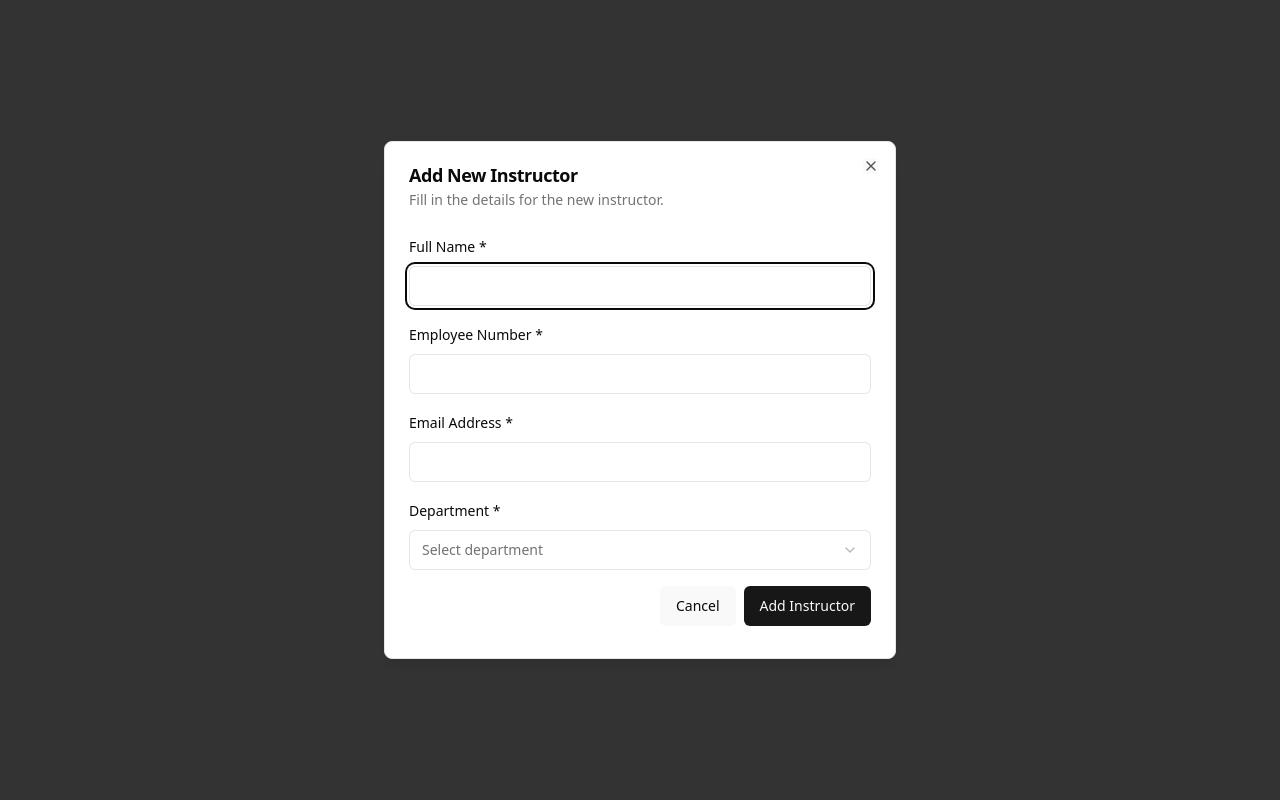
Test case: AddInstructorModal › shows an error for a duplicate employee number
The width and height of the screenshot is (1280, 800).
Type "John Doe" into the field labelled "Full Name *" at coordinates (640, 286), box [409,266,871,306]
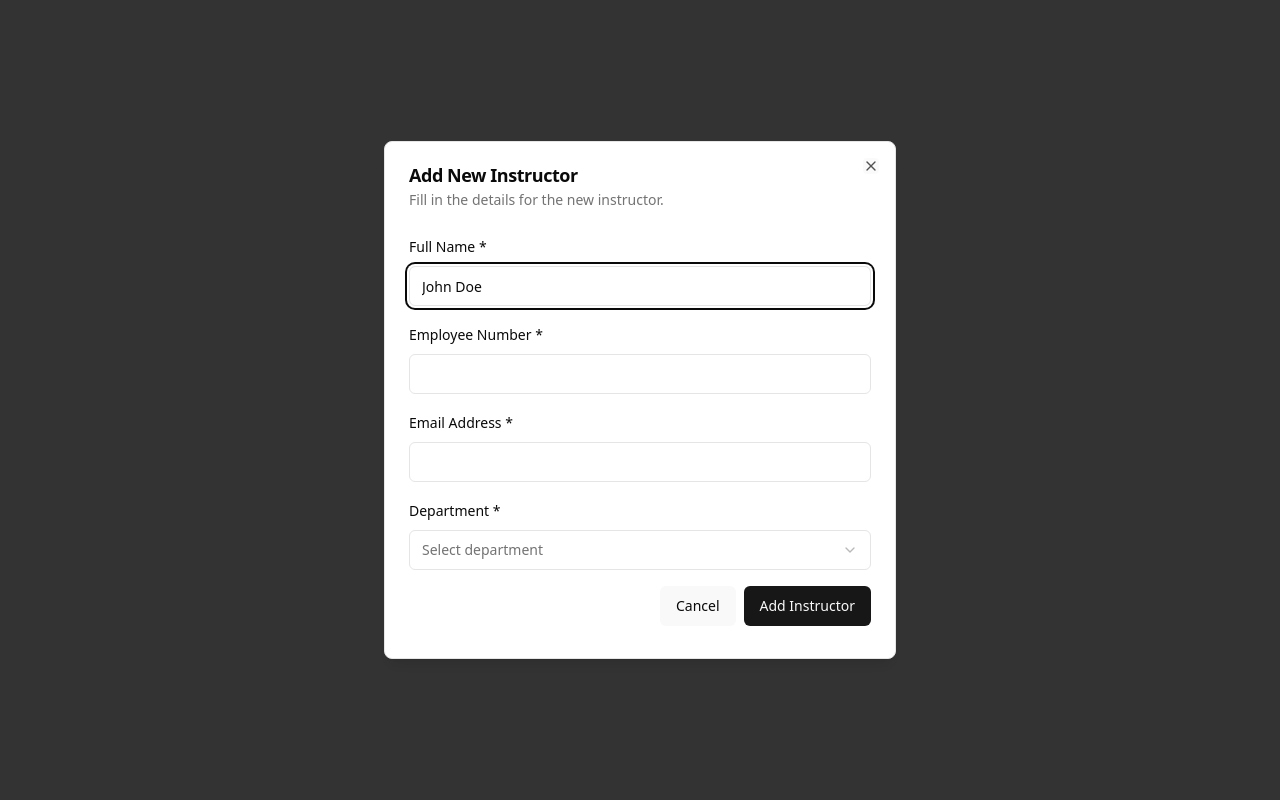
Type "12345678" into the field labelled "Employee Number *" at coordinates (640, 374), box [409,354,871,394]
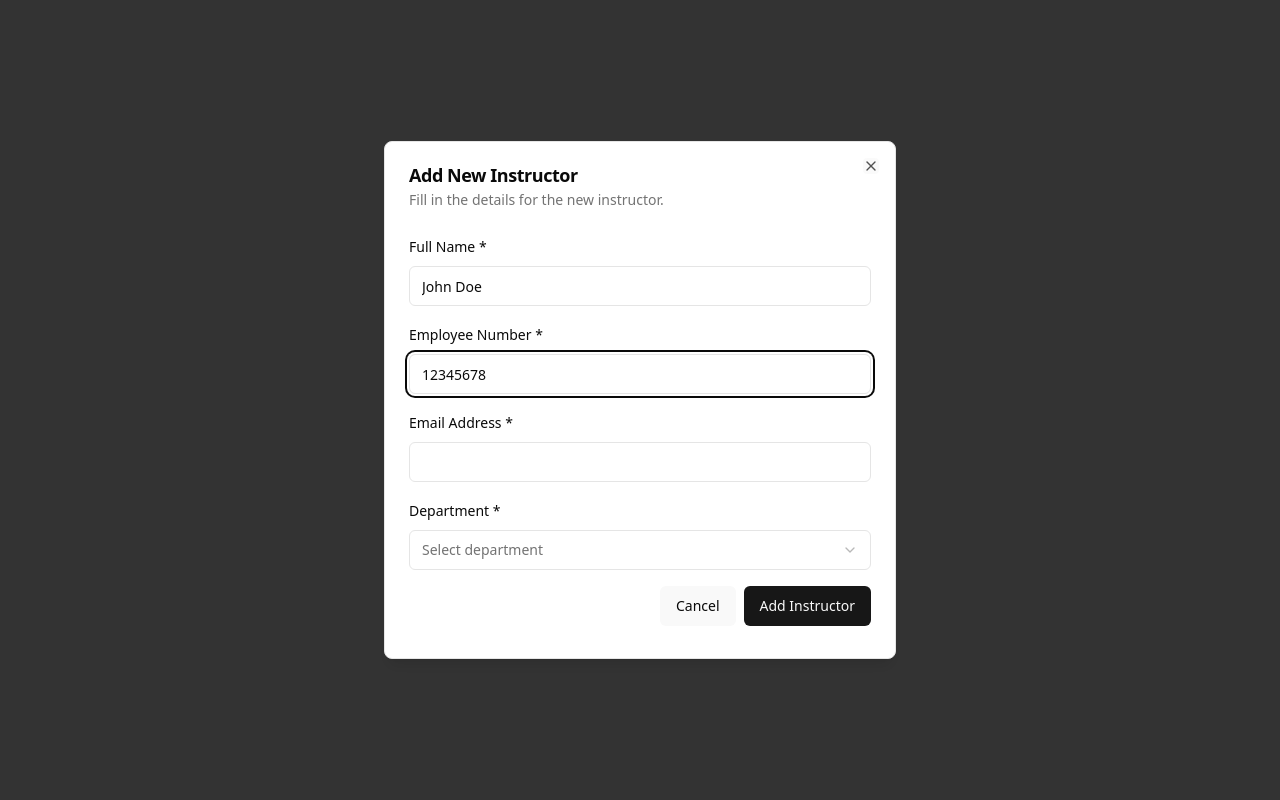
Type "john@test.com" into the field labelled "Email Address *" at coordinates (640, 462), box [409,442,871,482]
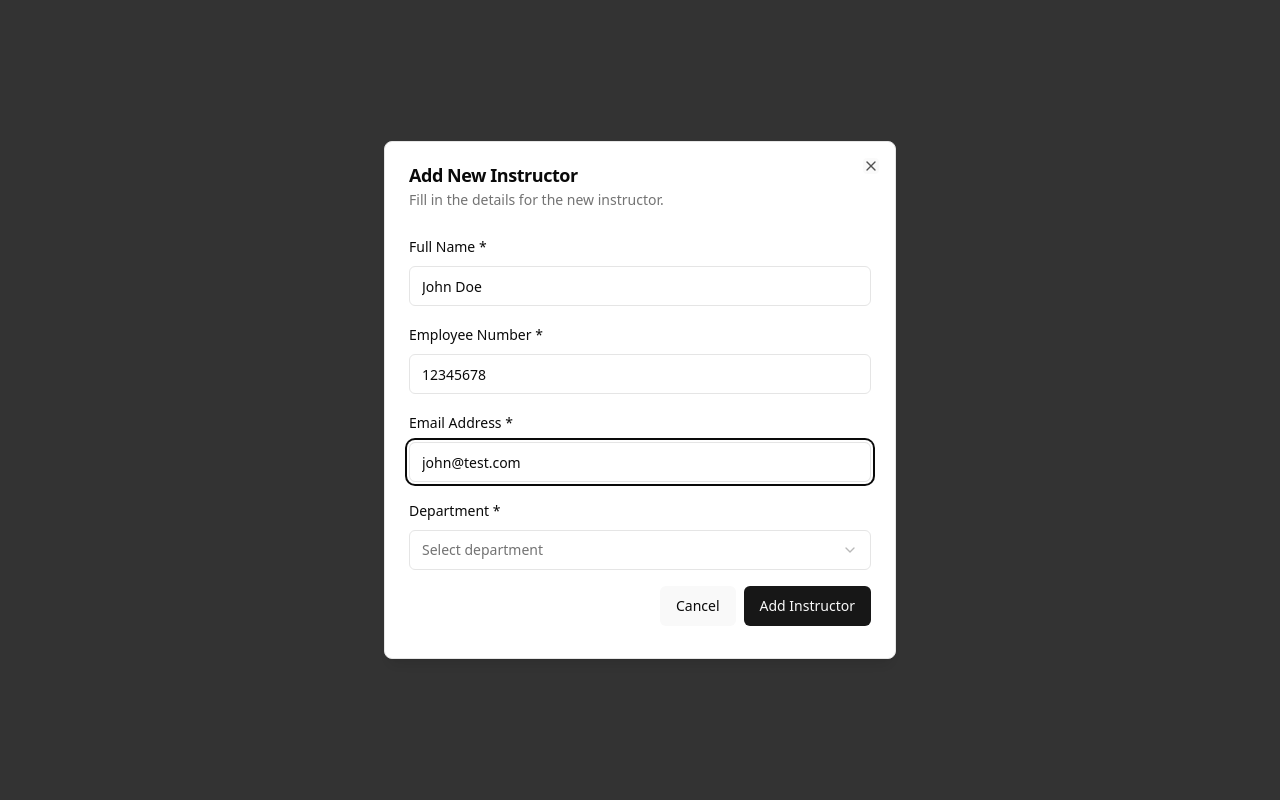
Click the dropdown at coordinates (483, 550), box [409,530,871,570]
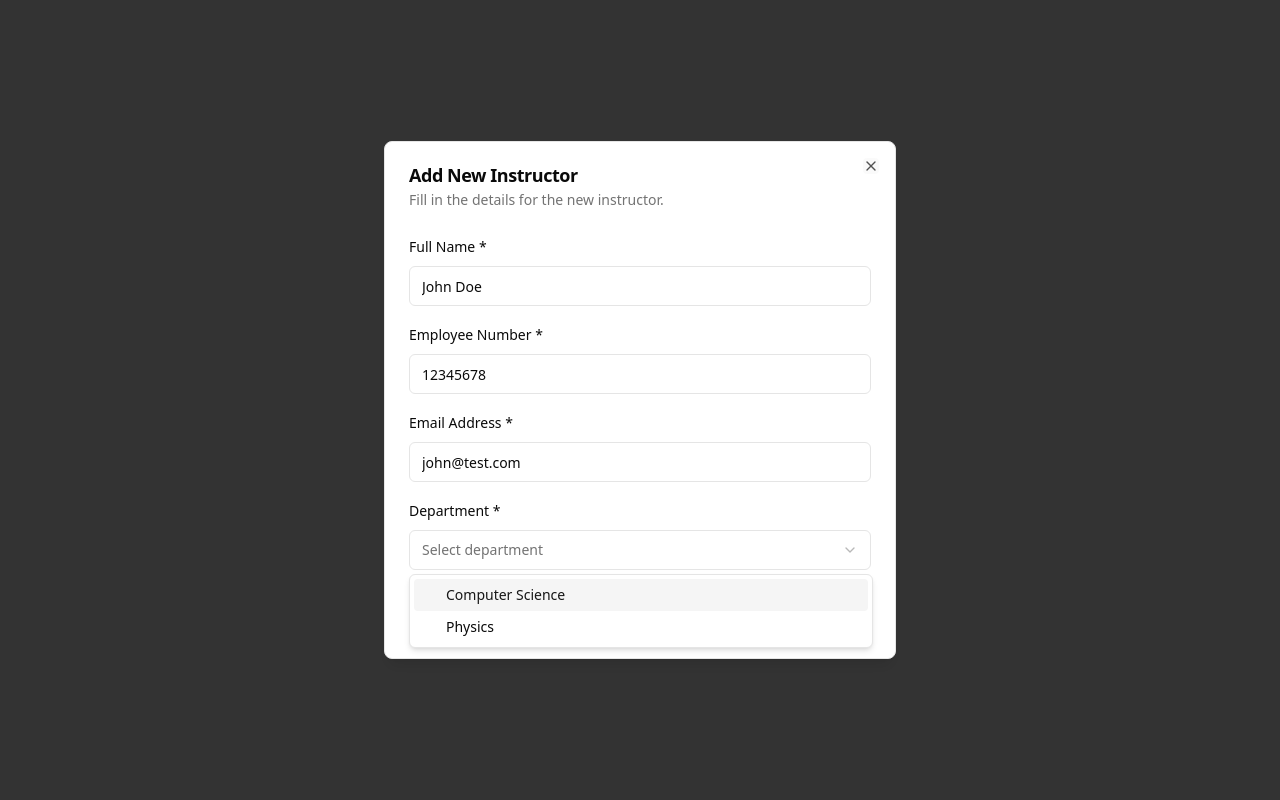
Click the option "Physics" at coordinates (470, 626), box [446,617,494,636]
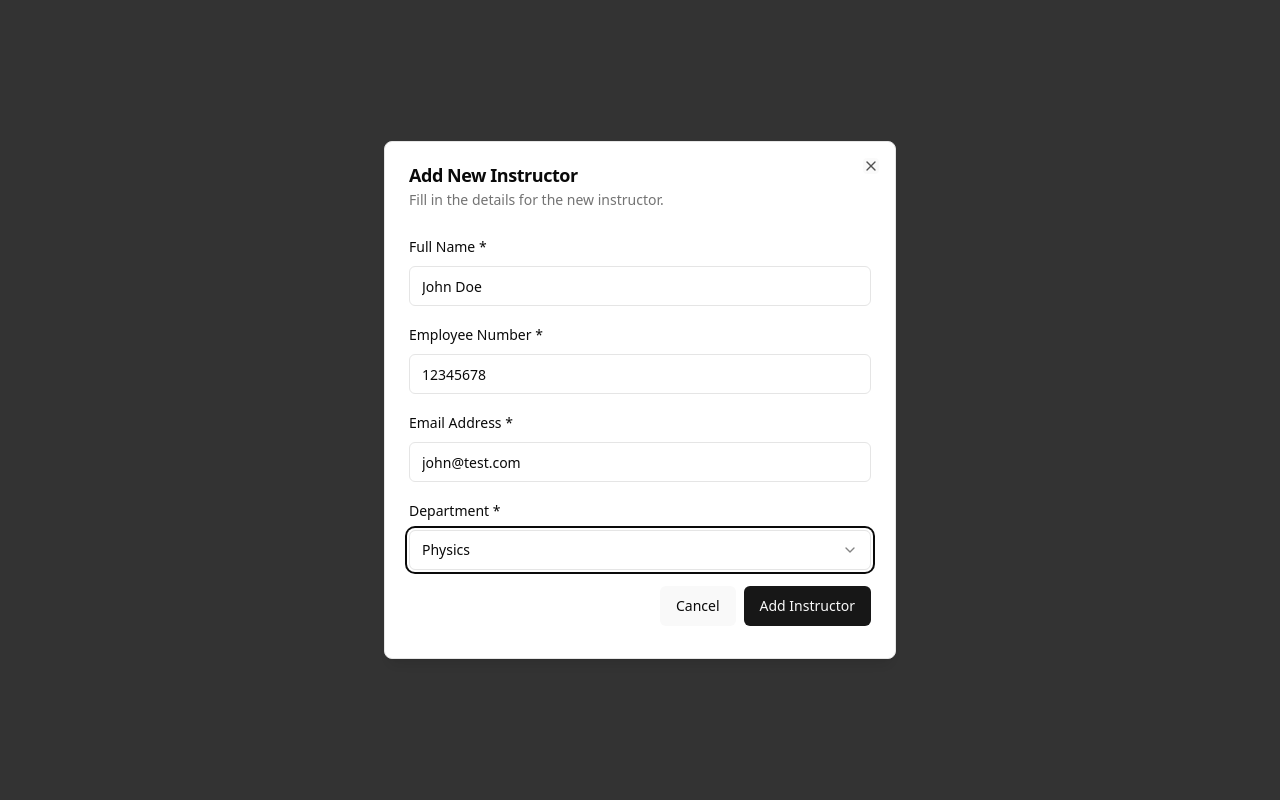
Click the button "Add Instructor" at coordinates (807, 606), box [744,586,871,626]
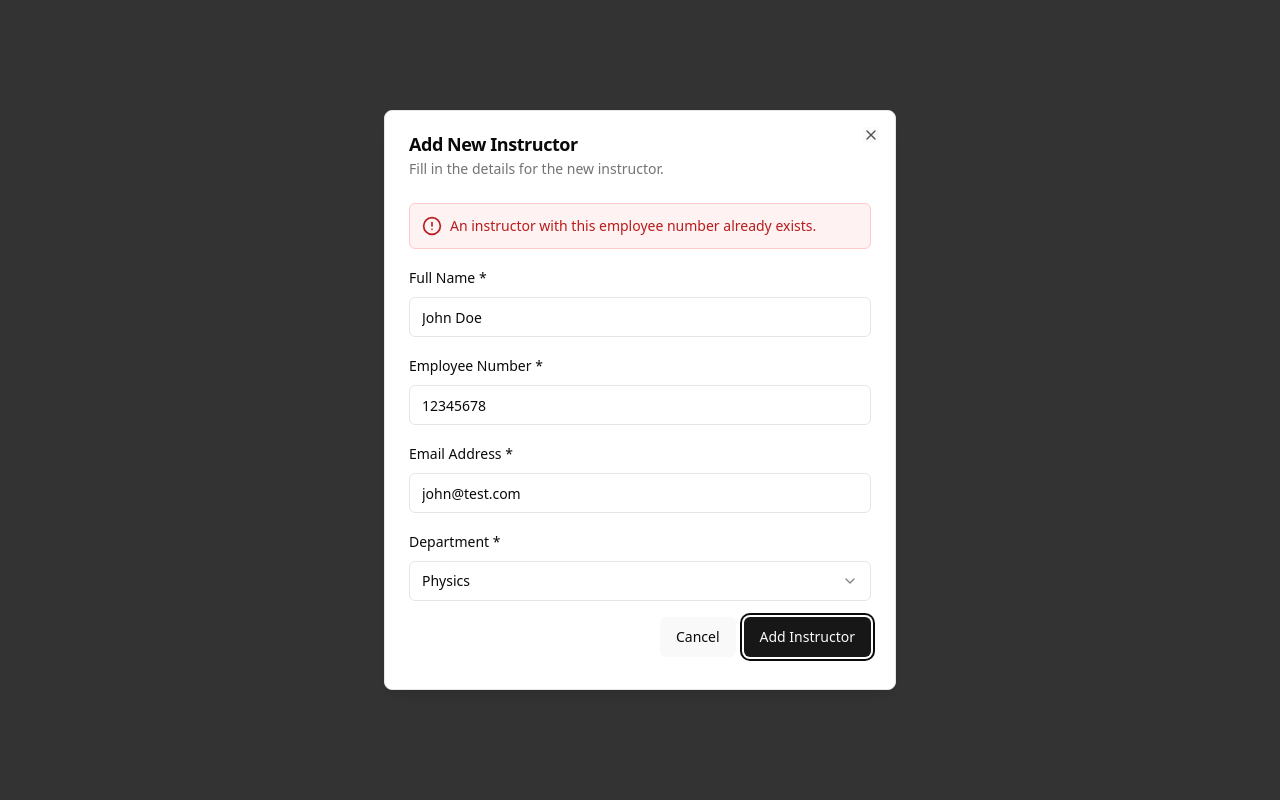
Expected: the text "An instructor with this employee number already exists." is shown, [450,216,816,236]
